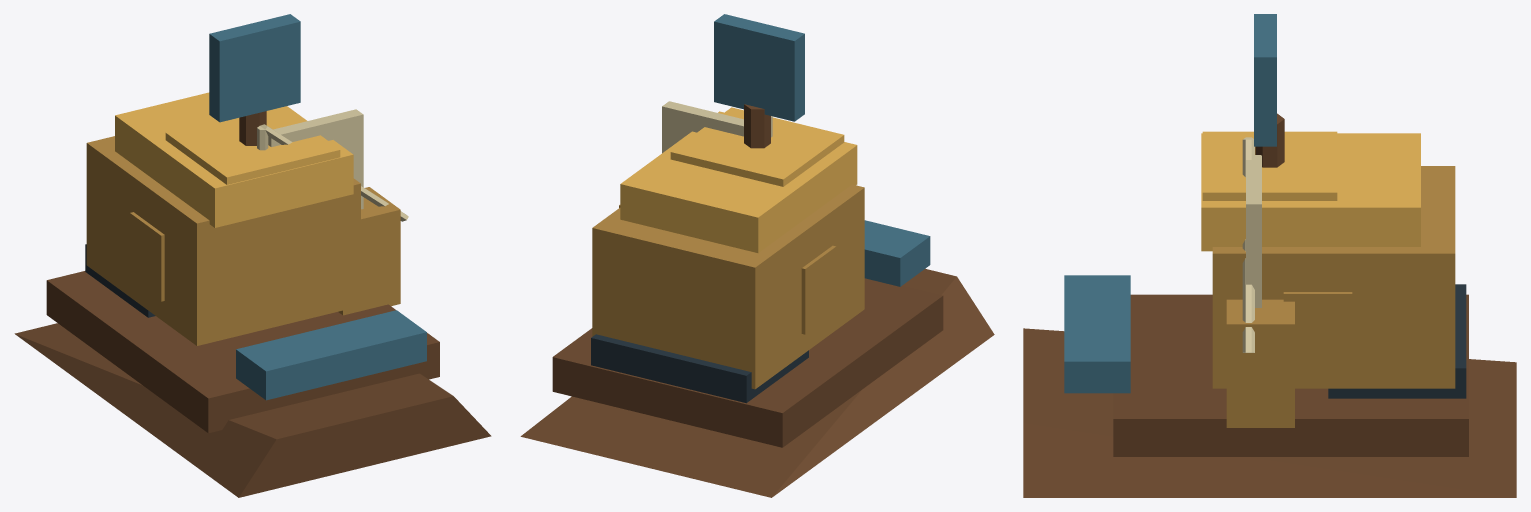
Rendered from transport-ship.obj.
3 renders of one model, left to right at view 1: azimuth 30°, elevation 25°; view 2: azimuth 150°, elevation 25°; view 3: azimuth 270°, elevation 25°, orthographic. The views are drawn at different scales.
Visible parts, largest first — view 1: ship; view 2: ship; view 3: ship.
Part boxes in pixels (left/top/right/bottom): ship: left=14, top=14, right=491, bottom=497; ship: left=520, top=14, right=994, bottom=497; ship: left=1023, top=14, right=1516, bottom=497.
Bounding box in the file's own units: 1.51 × 1.9 × 2.16.
